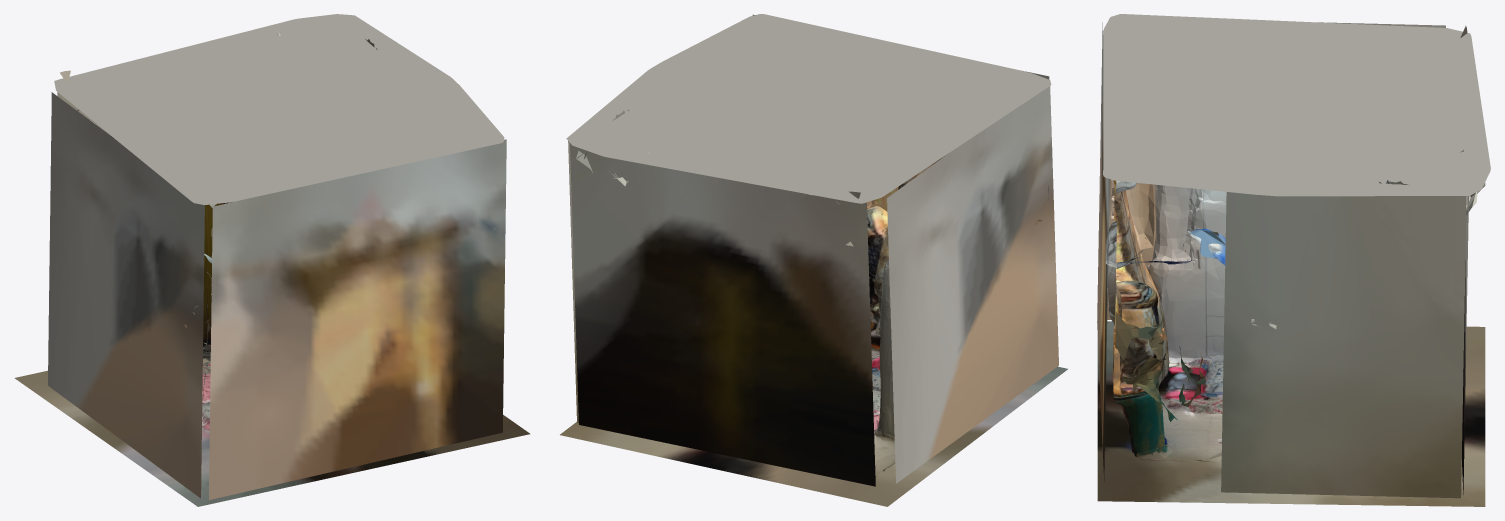
3 views of the same model, side by side, from view 1: azimuth 30°, elevation 25°; view 2: azimuth 150°, elevation 25°; view 3: azimuth 270°, elevation 25° (orthographic). The views are drawn at different scales.
Size of the model in its own units: 3.57 by 3.13 by 3.4.
2 materials, 1 textured.
